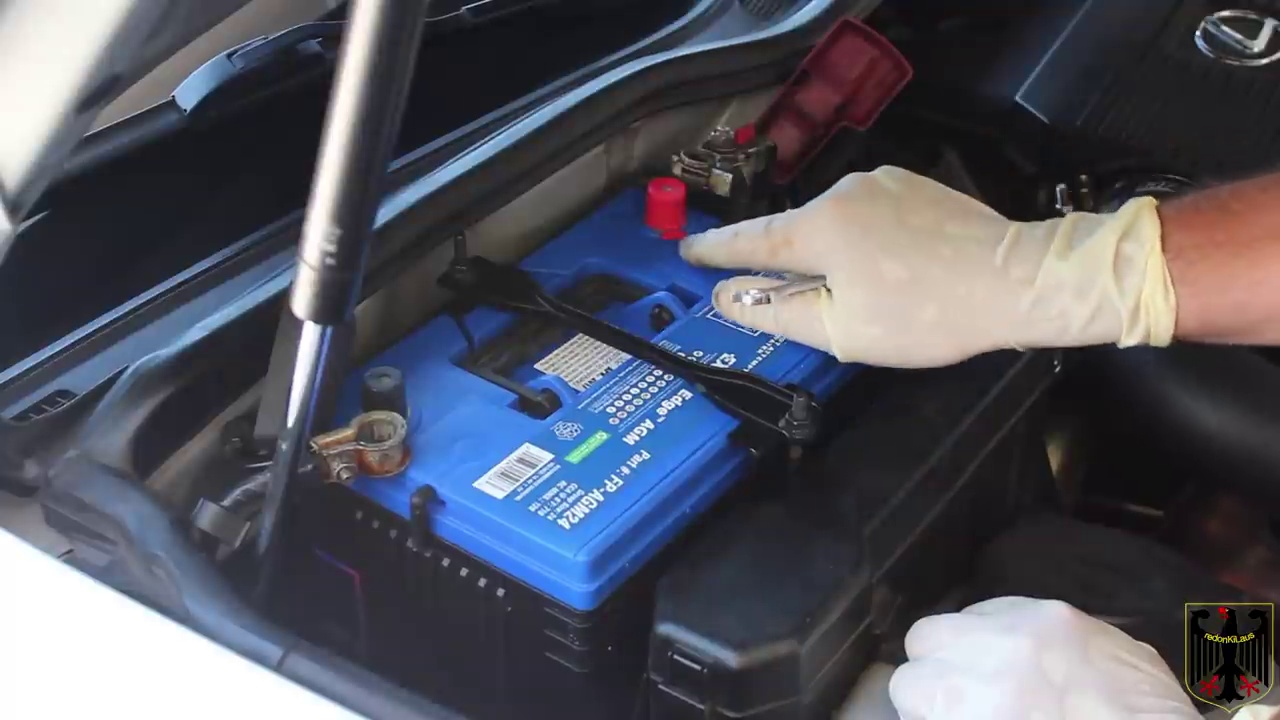battery: (272, 164, 837, 556)
pos_disconnected: (632, 45, 899, 220)
pos_touched: (612, 33, 888, 323)
